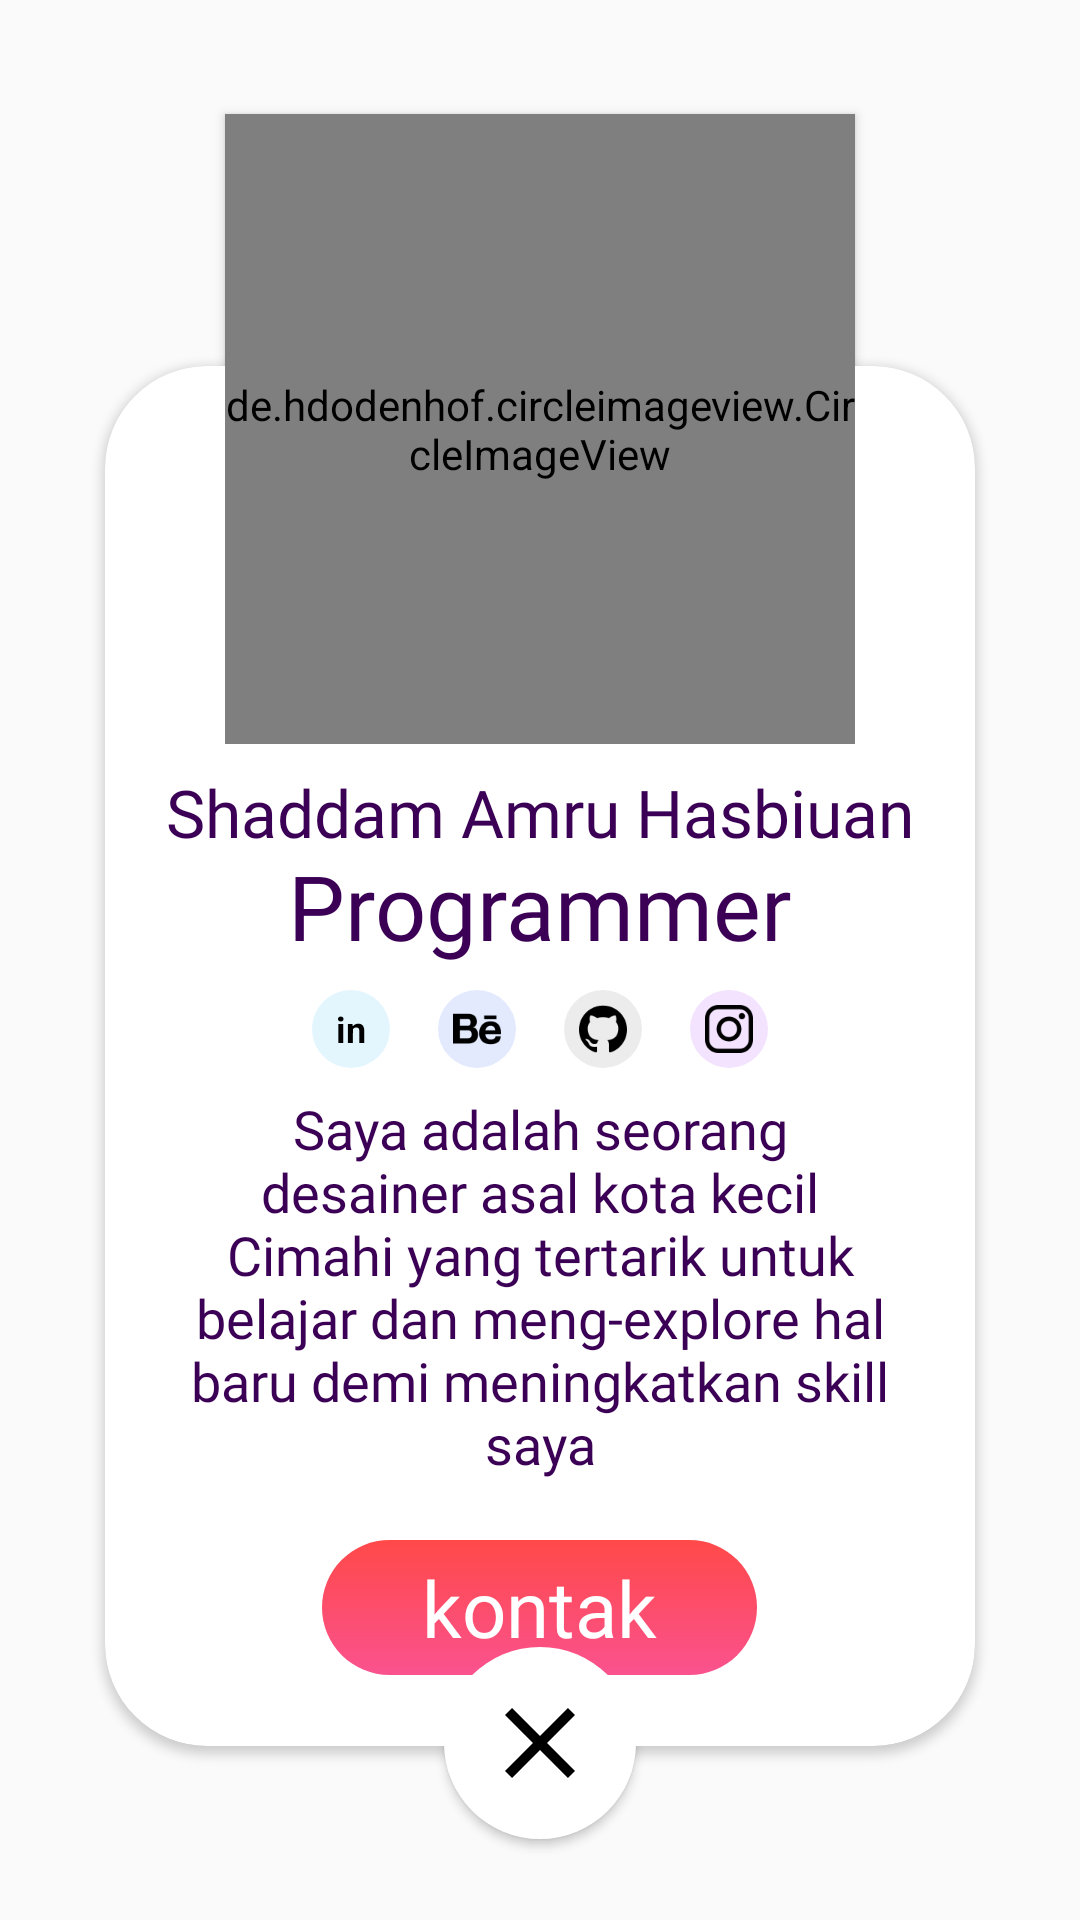

Icons on this 1080 × 1920 Android screen, each with the point to tap as point (x, y):
closepopup: point (540, 1743)
